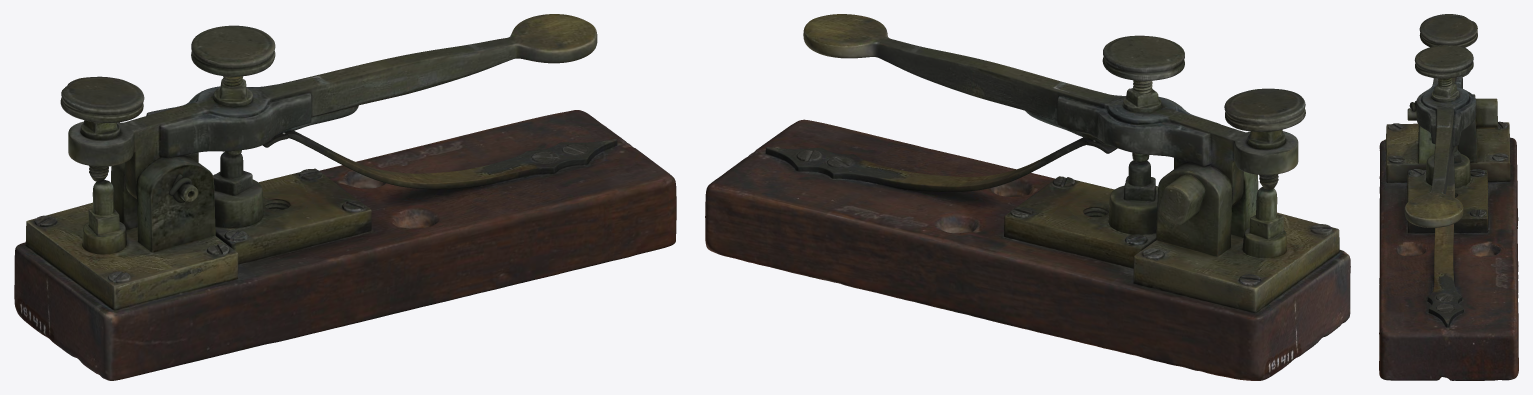
The model's file is telegraph.glb.
The picture shows the model from 3 angles, left to right: view 1: azimuth 30°, elevation 25°; view 2: azimuth 150°, elevation 25°; view 3: azimuth 270°, elevation 25°; orthographic projection. The views are drawn at different scales.
Bounding box in the file's own units: 169 × 76.55 × 50.84.
Materials: 1 (1 with a texture image).
